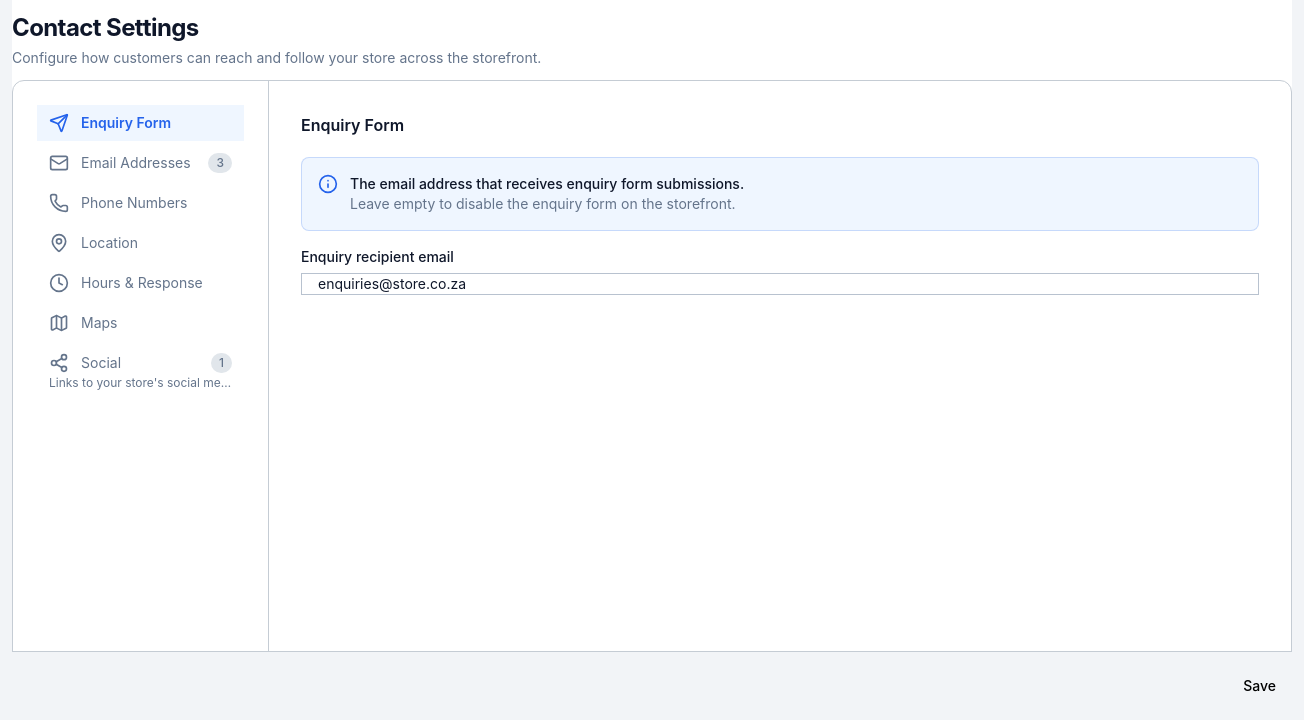
Test: ContactEditorPage › email/phone table pagination › jumps to the page containing a newly added row when adding past a full page
Expected: the field showing "enquiries@store.co.za" is shown, [301,273,1259,295]
Click the tab "Email Addresses 3".
click(140, 163)  # box [37,145,244,181]
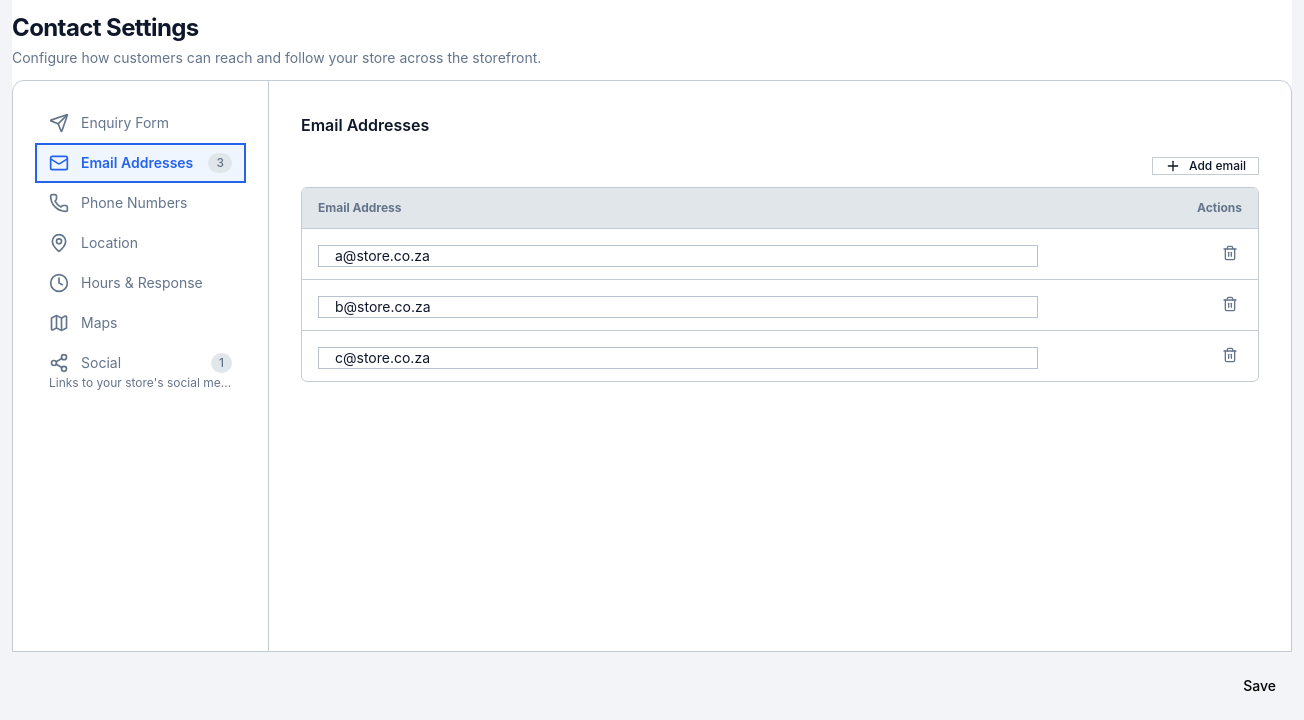
Click the button "Add email".
click(1206, 166)  # box [1152,157,1259,175]
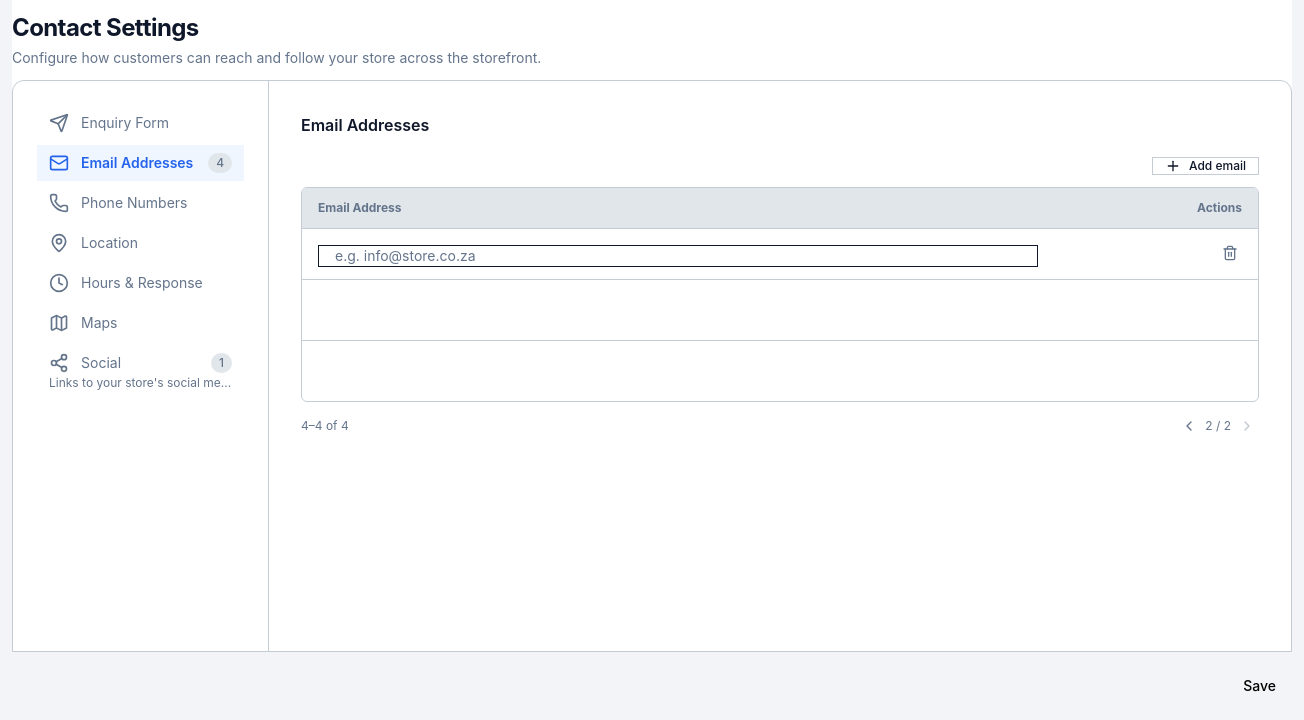
Expected: the field showing "a@store.co.za" is not shown
Expected: the field named "Email Addresses 4" is shown, [318,245,1038,267]
